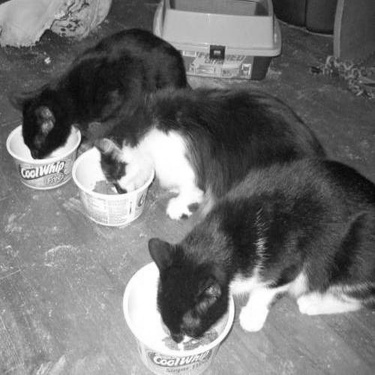cat: (141, 159, 371, 335), (73, 77, 331, 204), (11, 16, 180, 162)
